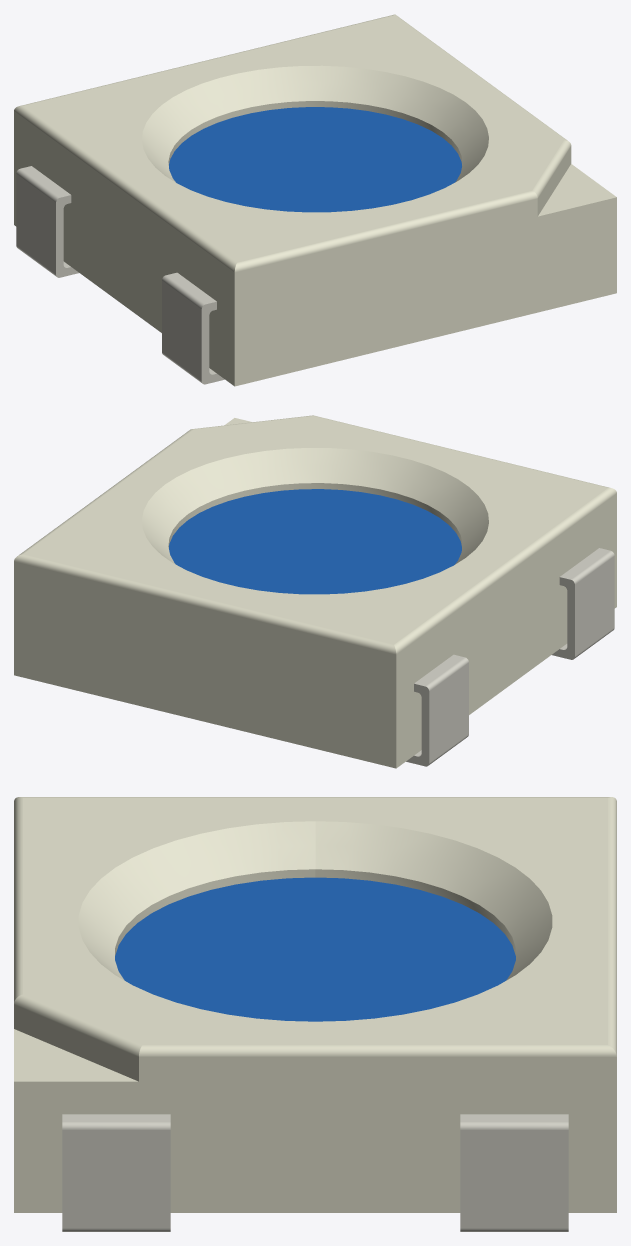
Rendered from neopixel.glb.
The picture shows the model from 3 angles, top to bottom: view 1: azimuth 30°, elevation 25°; view 2: azimuth 150°, elevation 25°; view 3: azimuth 270°, elevation 25°; orthographic projection. The views are drawn at different scales.
Visible parts, largest first — view 1: neopixel-1; view 2: neopixel-1; view 3: neopixel-1.
Part boxes in pixels (<box>): neopixel-1: <box>14,14,616,386</box>; neopixel-1: <box>14,415,616,768</box>; neopixel-1: <box>14,797,616,1231</box>.
Bounding box in the file's own units: 0.0054 × 0.0016 × 0.005.
